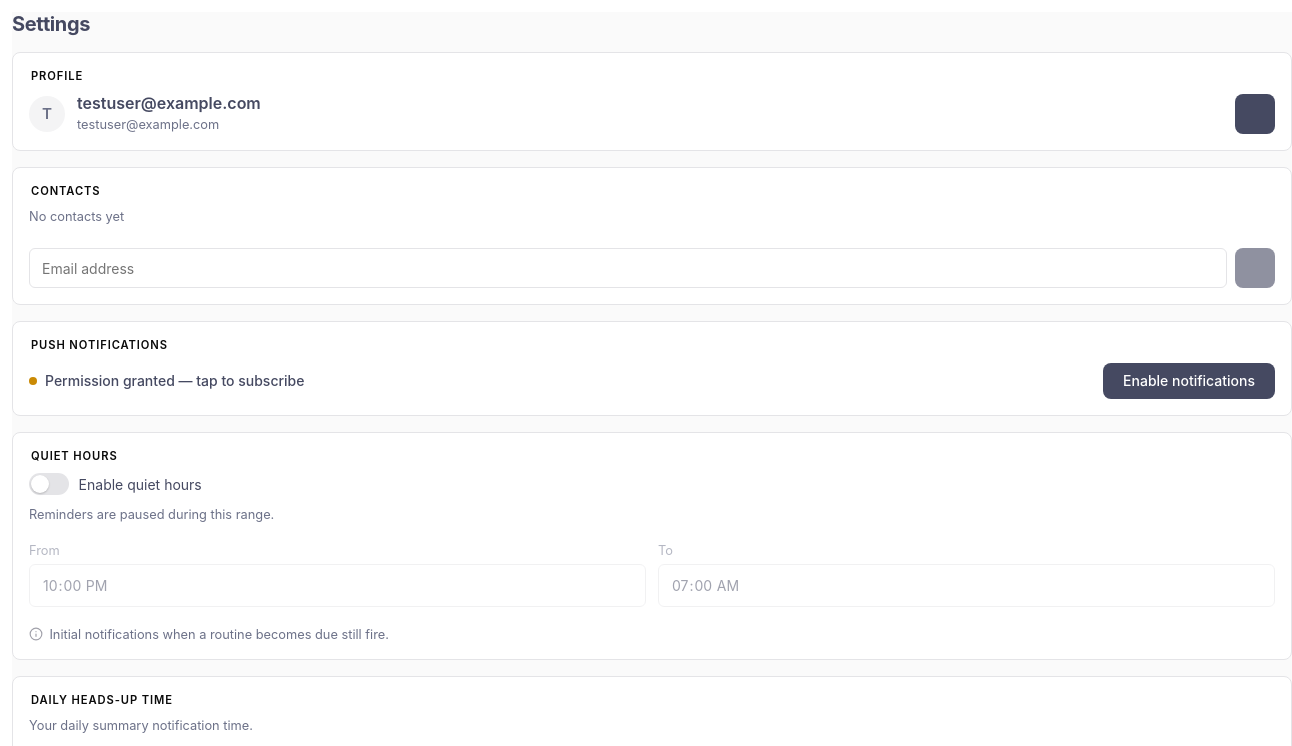
SettingsPage › adds a contact via the email-exact form
expect the text "Contacts" is shown: met, box [31,184,100,198]
Type "bob@example.com" into the field with test id "add-contact-email" at x=628, y=268, box [29,248,1227,288]
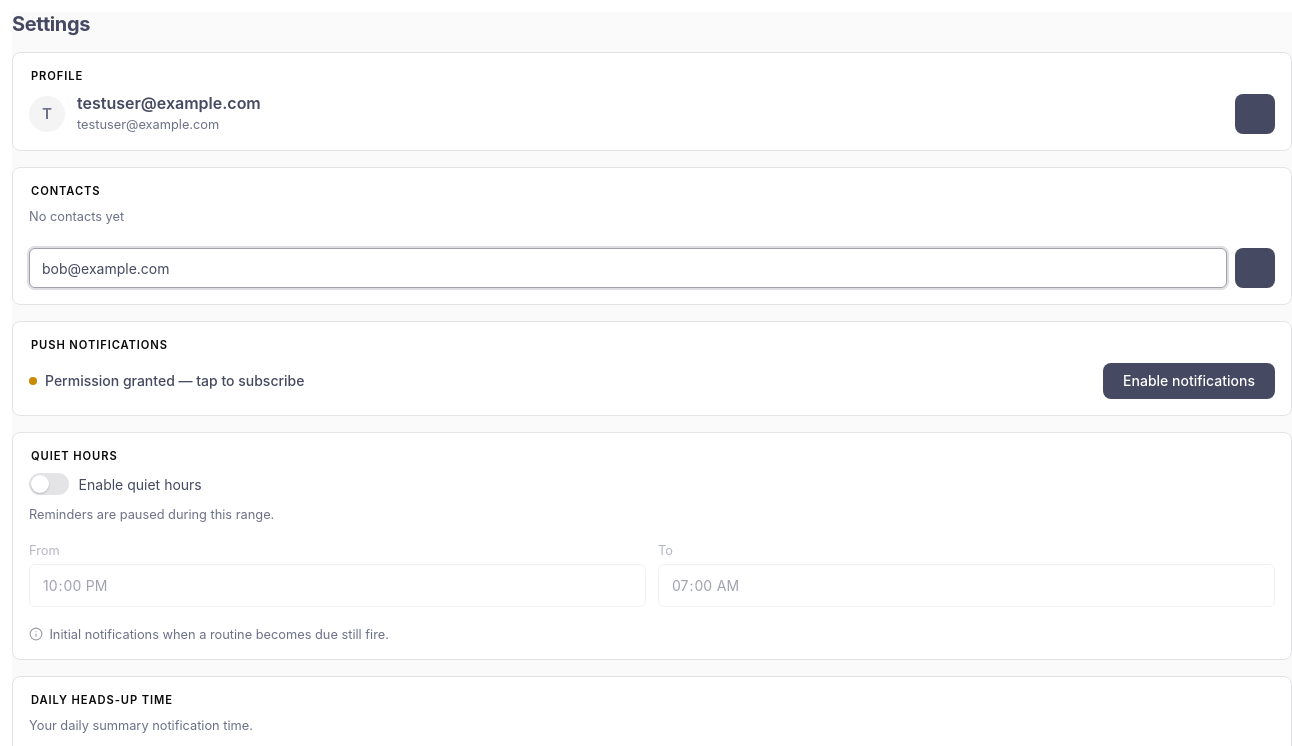
Click the button with test id "add-contact-submit" at x=1255, y=268, box [1235,248,1275,288]
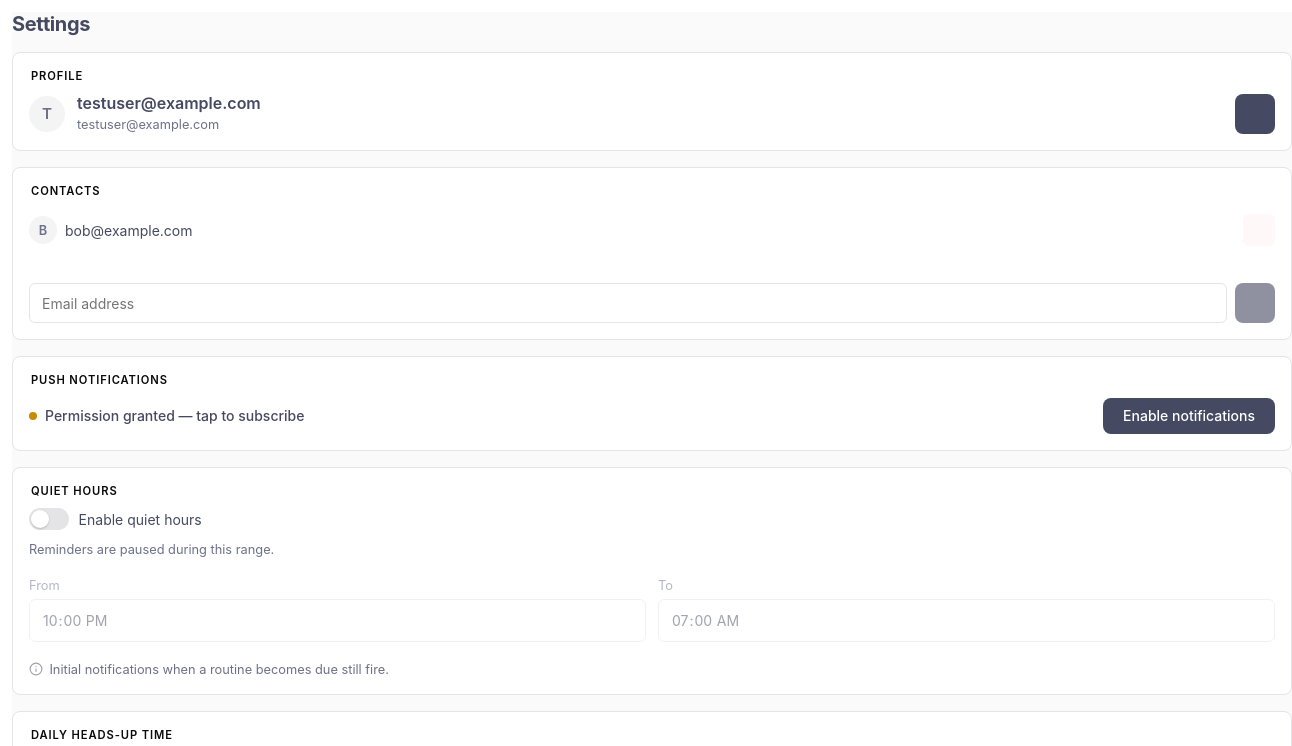
expect the field with test id "add-contact-email" is empty: met, box [29,283,1227,323]
expect the text "bob@example.com" is shown: met, box [65,222,192,239]
